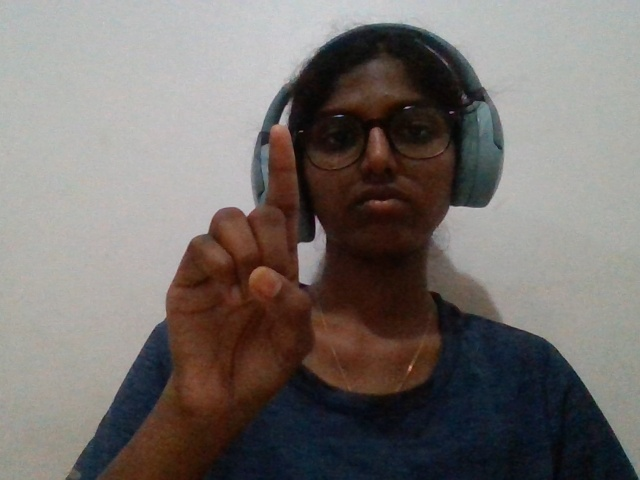D: (129, 91, 337, 452)
